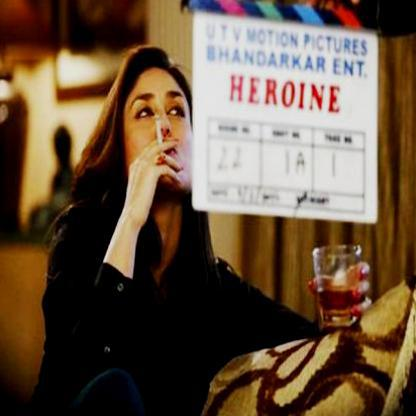cigarette: (154, 114, 165, 148)
person: (46, 52, 216, 415)
